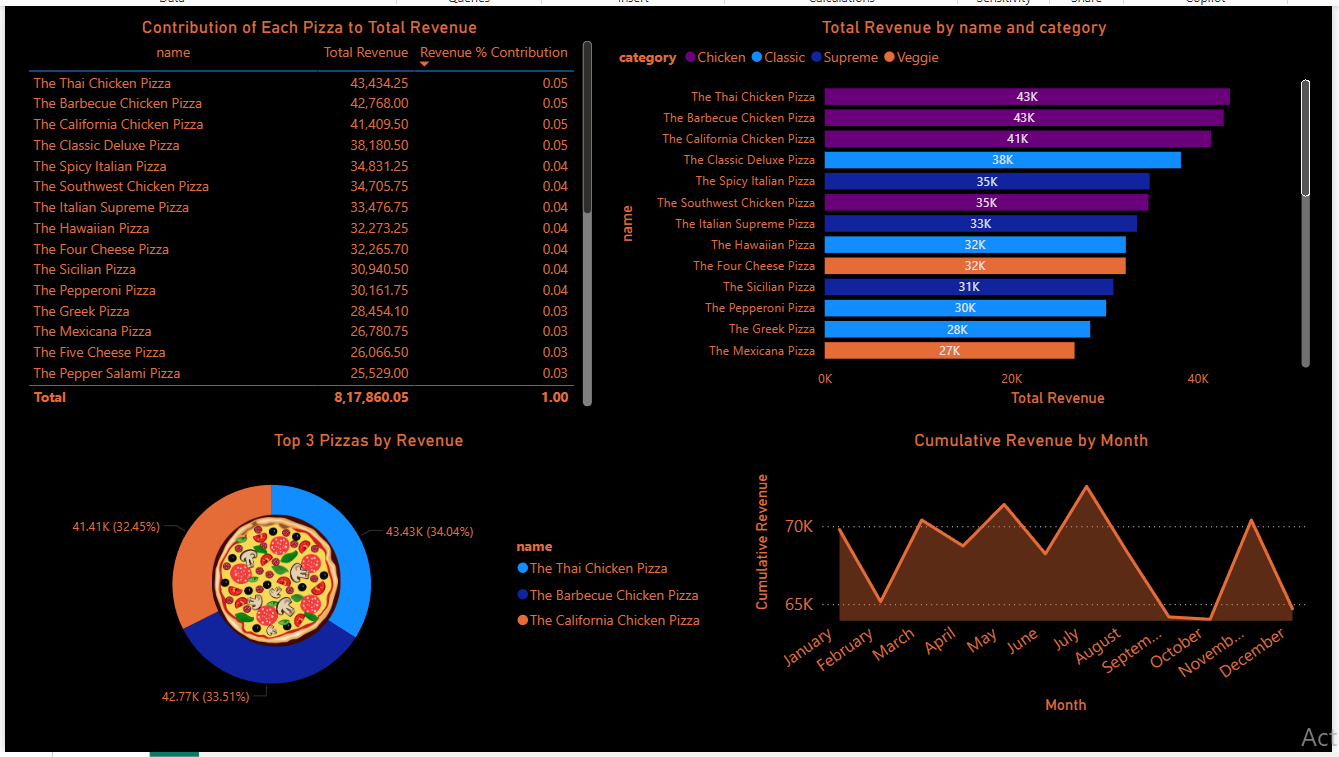

This screenshot's page, from the dashboard's own definition file:
{"tool":"powerbi","page":{"name":"Page 2","canvas":[1280,720],"ordinal":1},"visuals":[{"type":"donutChart","title":"Top 3 Pizzas by Revenue","fields":{"Category":["pizza_types.name"],"Y":["order_details.Total Revenue"]},"box":[17.1,409.1,668.5,279.4],"z":0},{"type":"image","box":[193.9,486.1,135.4,136.8],"z":1000},{"type":"areaChart","fields":{"Category":["orders.date.Variation.Date Hierarchy.Month"],"Y":["order_details.Cumulative Revenue"]},"box":[718.4,409.1,545.9,279.4],"z":2000},{"type":"tableEx","title":"Contribution of Each Pizza to Total Revenue","fields":{"Values":["pizza_types.name","order_details.Total Revenue","order_details.Revenue % Contribution"]},"box":[17.1,10,554.5,382],"z":3000},{"type":"barChart","fields":{"Category":["pizza_types.name"],"Y":["order_details.Total Revenue"],"Series":["pizza_types.category"]},"box":[587.3,10,677.1,382],"z":4000}]}

Visuals, with their boxes on the page's 1280x720 design canvas (x1, y1, x2, y2). These are canvas units, not pixel positions in the 1339x757 screenshot, which may show the page scaled, cropped or inside an application window:
"Top 3 Pizzas by Revenue" donutChart: detection(17, 409, 686, 688)
image: detection(194, 486, 329, 623)
areaChart - orders.date.Variation.Date Hierarchy.Month x order_details.Cumulative Revenue: detection(718, 409, 1264, 688)
"Contribution of Each Pizza to Total Revenue" tableEx: detection(17, 10, 572, 392)
barChart - pizza_types.name x order_details.Total Revenue: detection(587, 10, 1264, 392)
